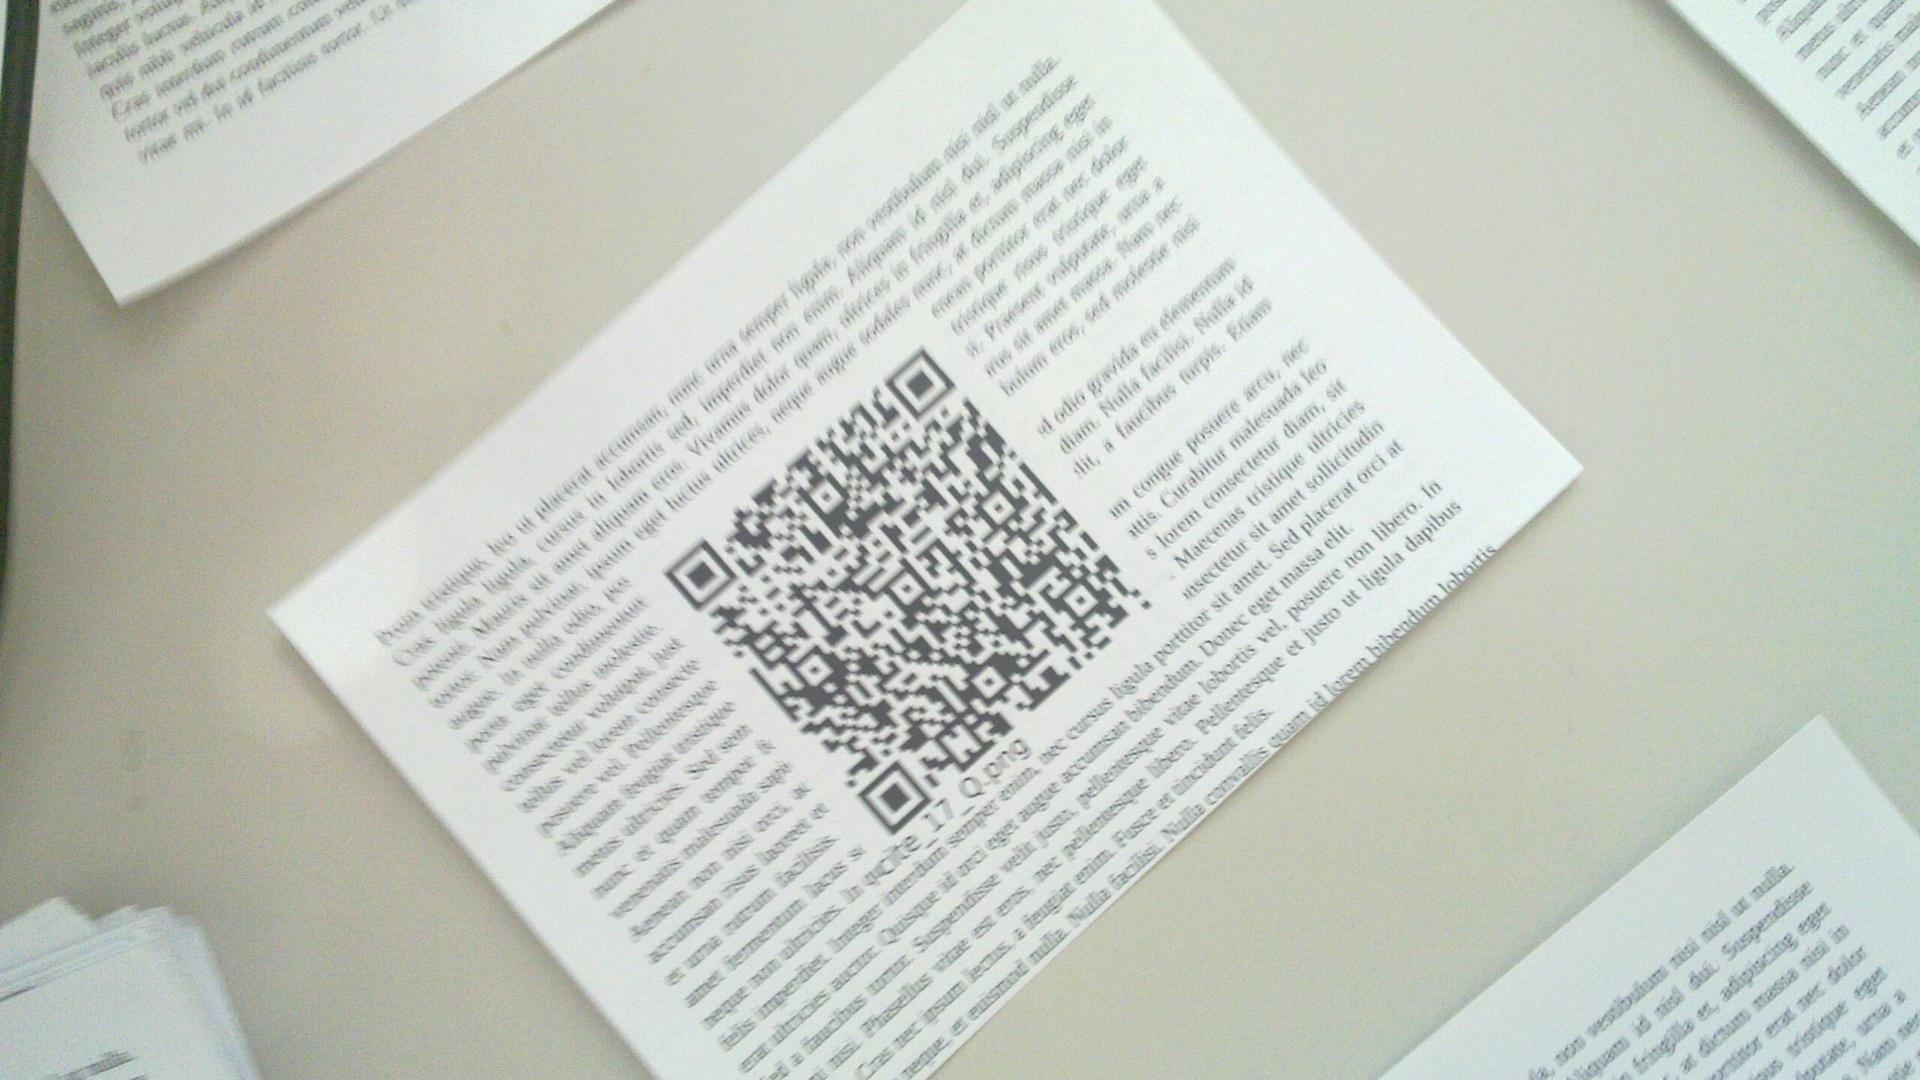Finder pattern: (878, 345, 957, 418), (661, 541, 735, 611), (860, 760, 928, 833)
